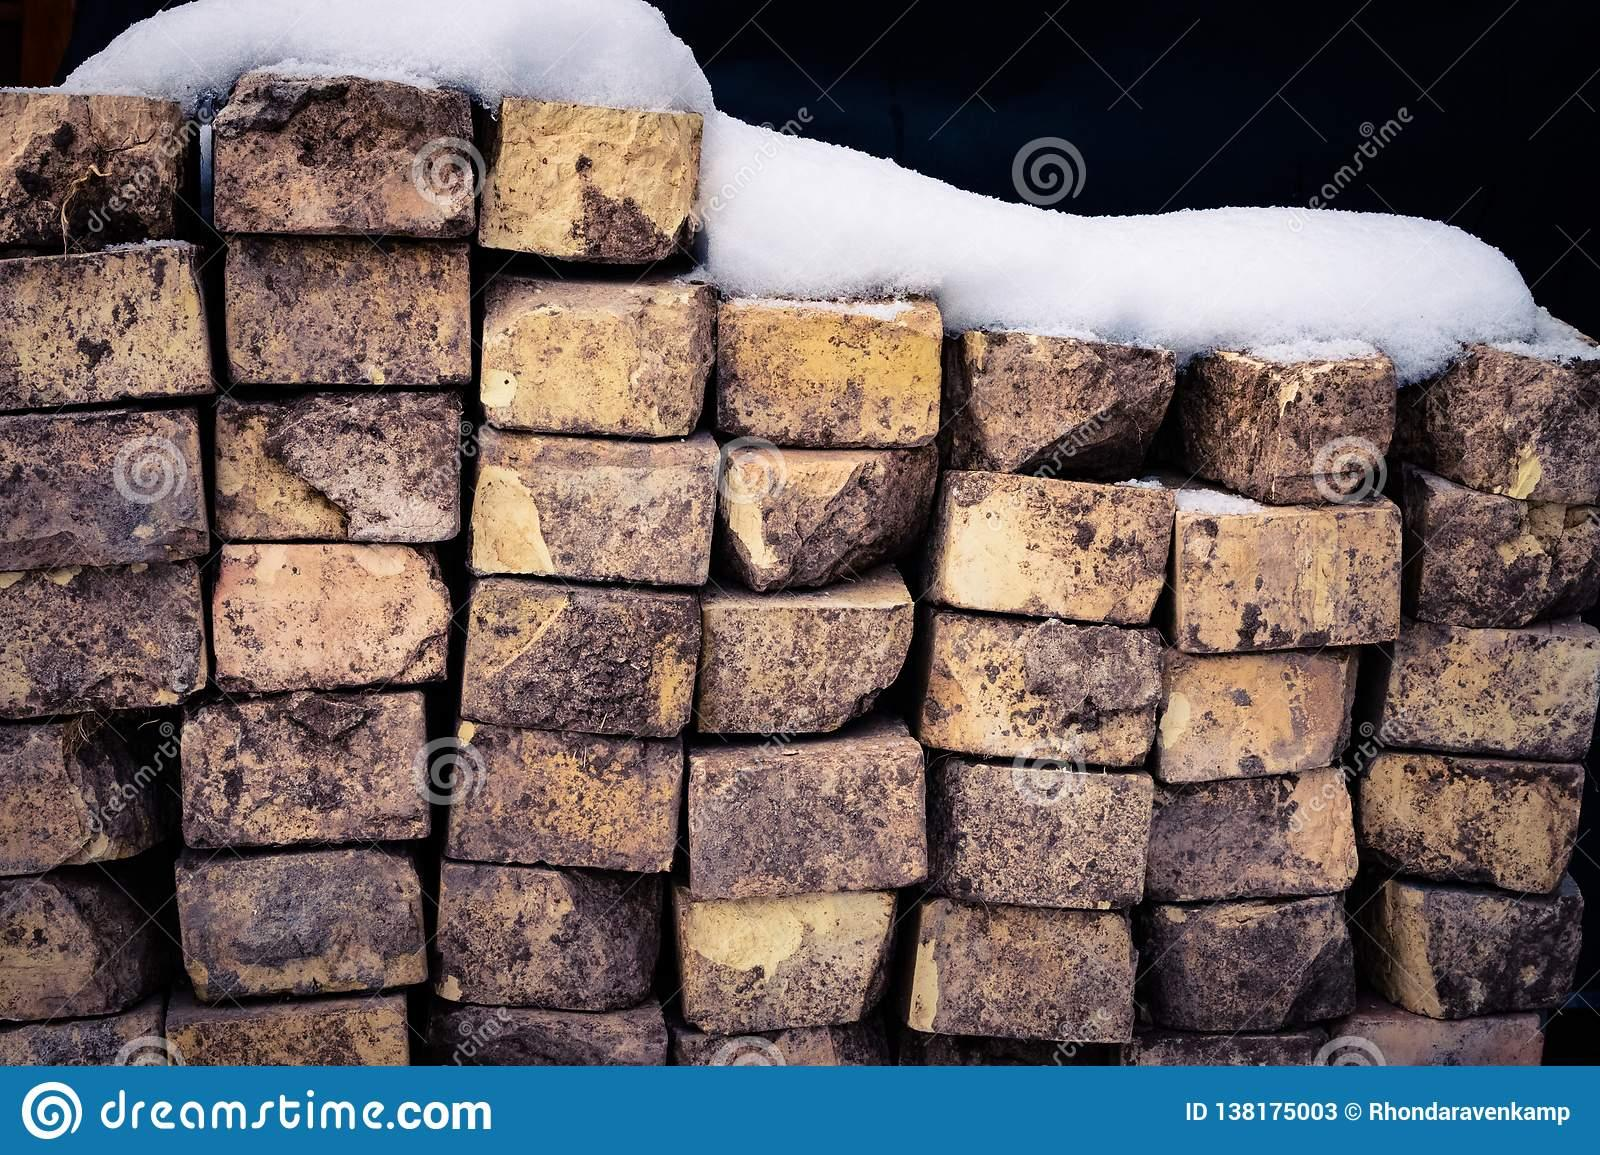brick: (210, 68, 473, 233), (181, 693, 431, 842), (922, 616, 1165, 766), (176, 849, 427, 994), (482, 281, 712, 437), (939, 471, 1175, 622), (465, 581, 701, 731), (447, 719, 682, 869), (478, 98, 702, 255), (215, 392, 460, 535), (687, 751, 928, 895), (226, 242, 470, 384), (214, 544, 448, 691), (1, 241, 211, 401), (908, 897, 1133, 1042), (1, 409, 206, 566), (440, 863, 658, 1011), (1180, 505, 1401, 651), (1, 559, 206, 715), (677, 890, 894, 1035), (942, 763, 1157, 908), (719, 304, 942, 445), (468, 453, 717, 579), (954, 332, 1175, 471), (1360, 754, 1584, 889), (0, 89, 199, 241), (1383, 622, 1600, 755), (728, 458, 937, 592), (1150, 766, 1355, 899), (702, 602, 914, 730), (1157, 895, 1358, 1028), (1386, 881, 1584, 1015), (1161, 646, 1354, 781), (1435, 344, 1600, 502), (1421, 493, 1600, 626), (0, 724, 150, 877), (1, 878, 143, 1018), (1271, 364, 1398, 502)
